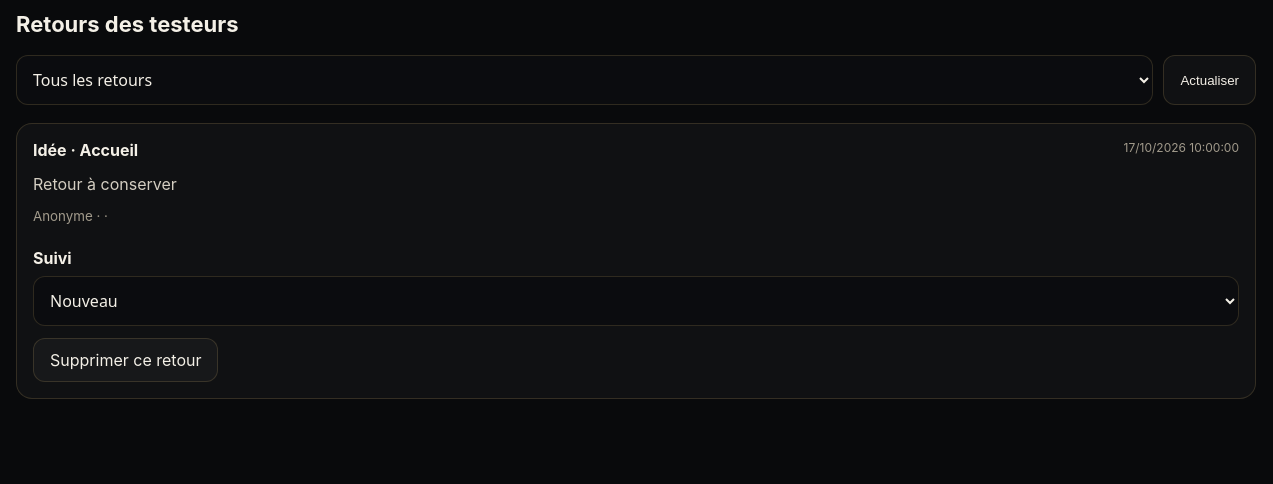
Test: a failed deletion keeps the report and allows retry
Click the button "Supprimer ce retour".
click(126, 360)  # box [33,338,218,382]
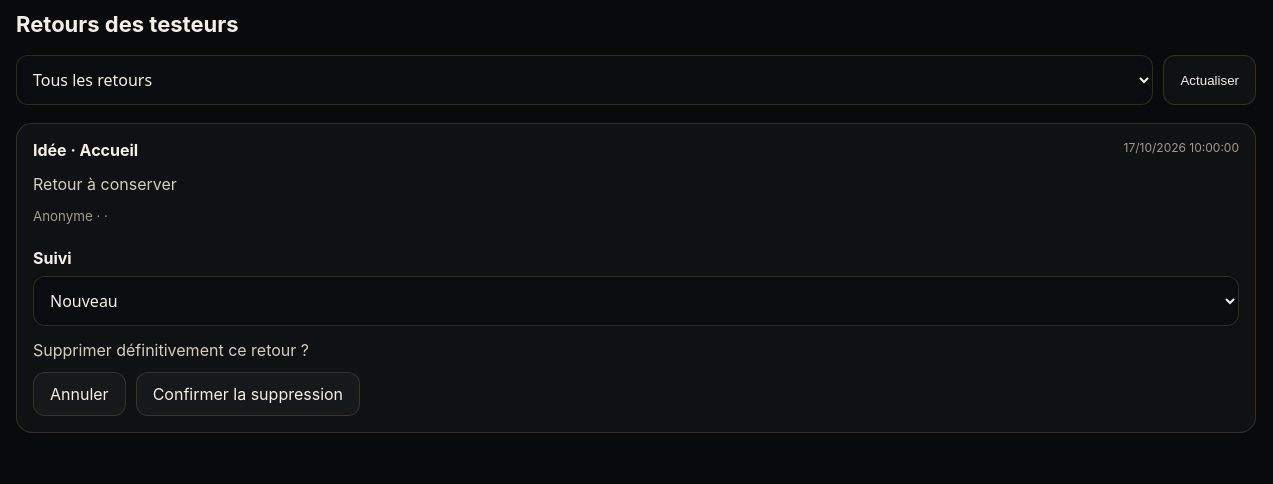
Click the button "Confirmer la suppression".
click(248, 394)  # box [136,372,360,416]
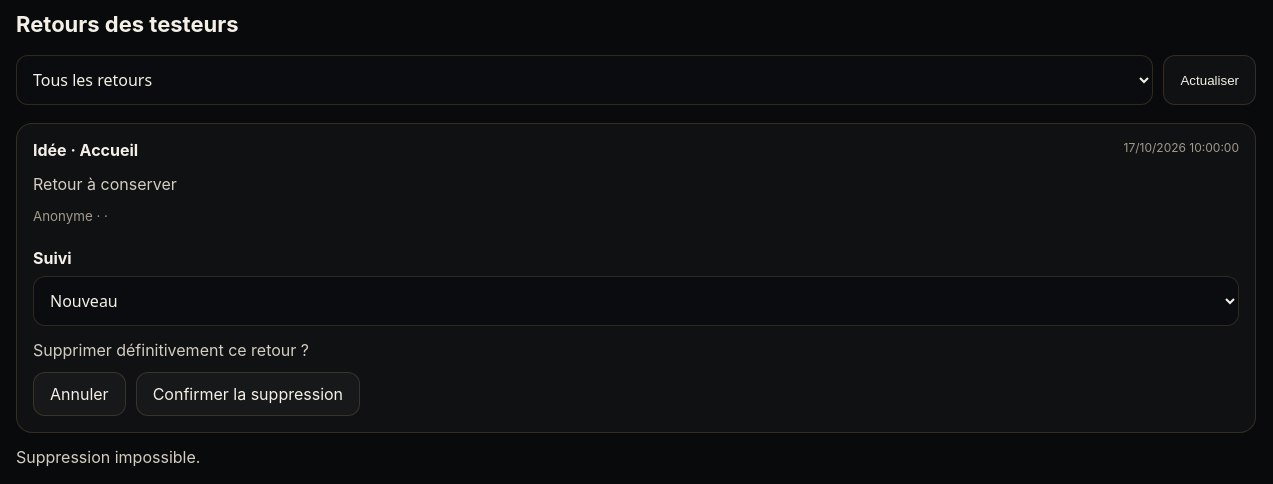
Expected: the text "Retour à conserver" is shown, [33,174,177,194]
Result: the message reads "Suppression impossible." at [16,447,200,467]
Click the button "Confirmer la suppression".
click(248, 394)  # box [136,372,360,416]
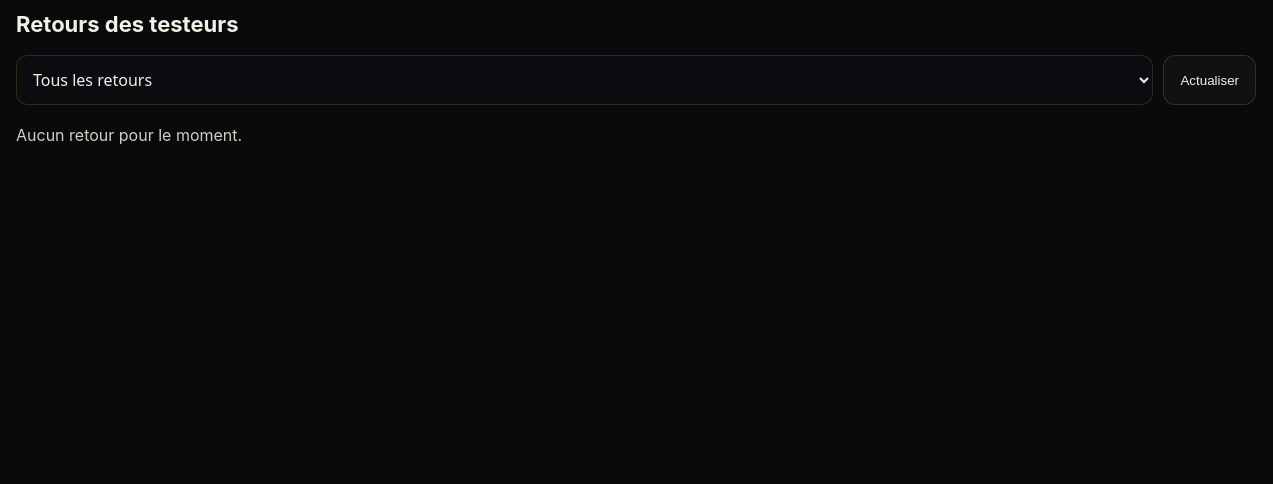
Result: the text "Aucun retour pour le moment." is shown at [16,125,242,145]
